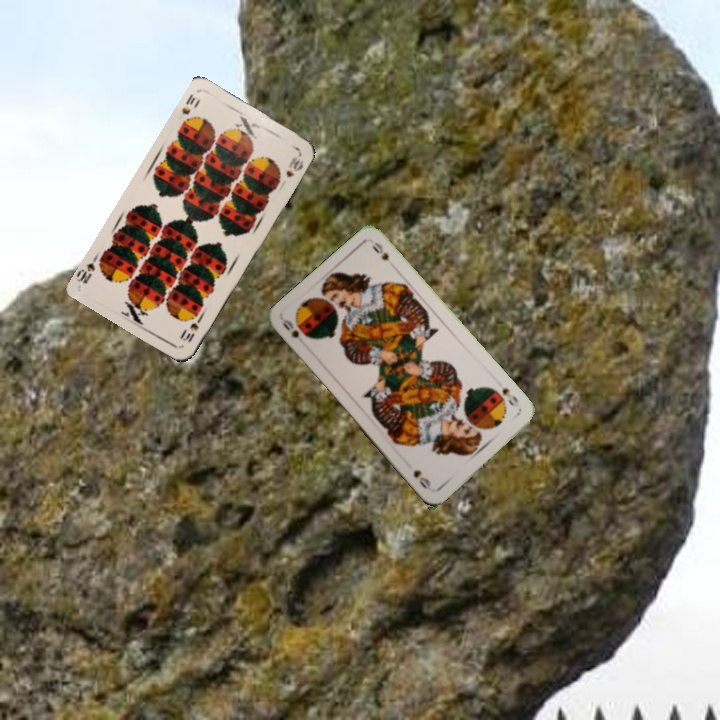S10: (177, 311, 205, 344), (178, 90, 198, 117)
SO: (278, 315, 302, 341), (498, 383, 521, 409)
